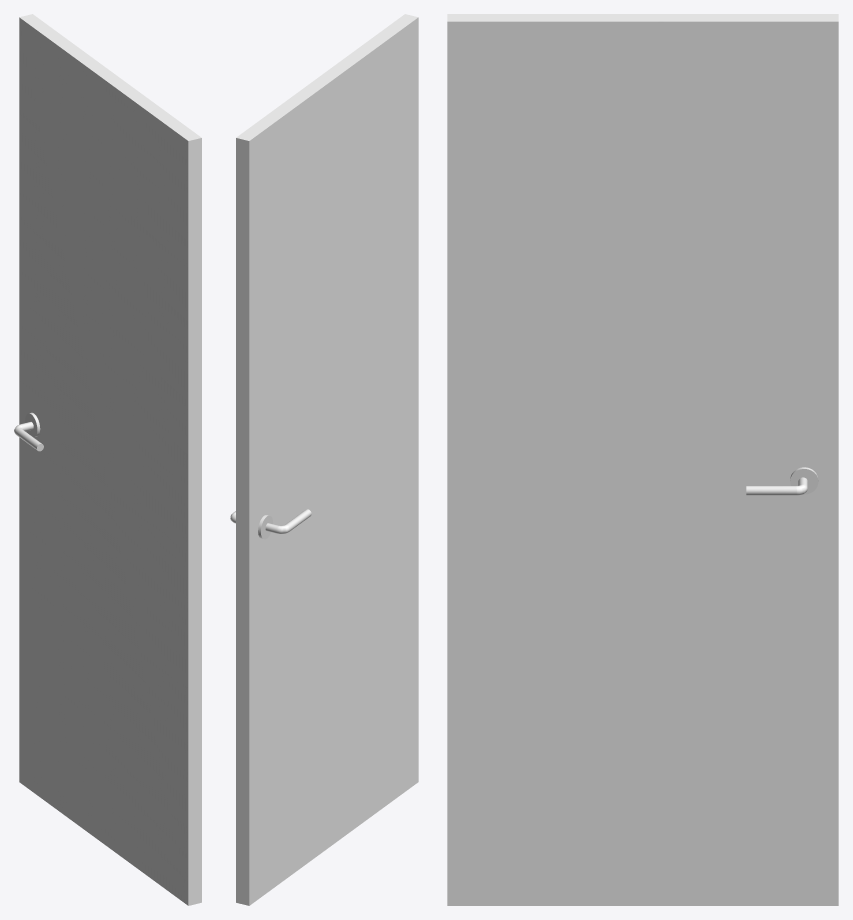
Rendered from Door.fbx.
3 views of the same model, side by side, from view 1: azimuth 30°, elevation 25°; view 2: azimuth 150°, elevation 25°; view 3: azimuth 270°, elevation 25° (orthographic). The views are drawn at different scales.
Visible parts, largest first — view 1: Doors; view 2: Doors; view 3: Doors.
Boxes of the visible parts, x1,y1,x2,y2 form: Doors: [14, 14, 201, 905]; Doors: [230, 14, 418, 905]; Doors: [447, 14, 838, 905].
Bounding box in the file's own units: 16.4 × 206 × 82.6.
